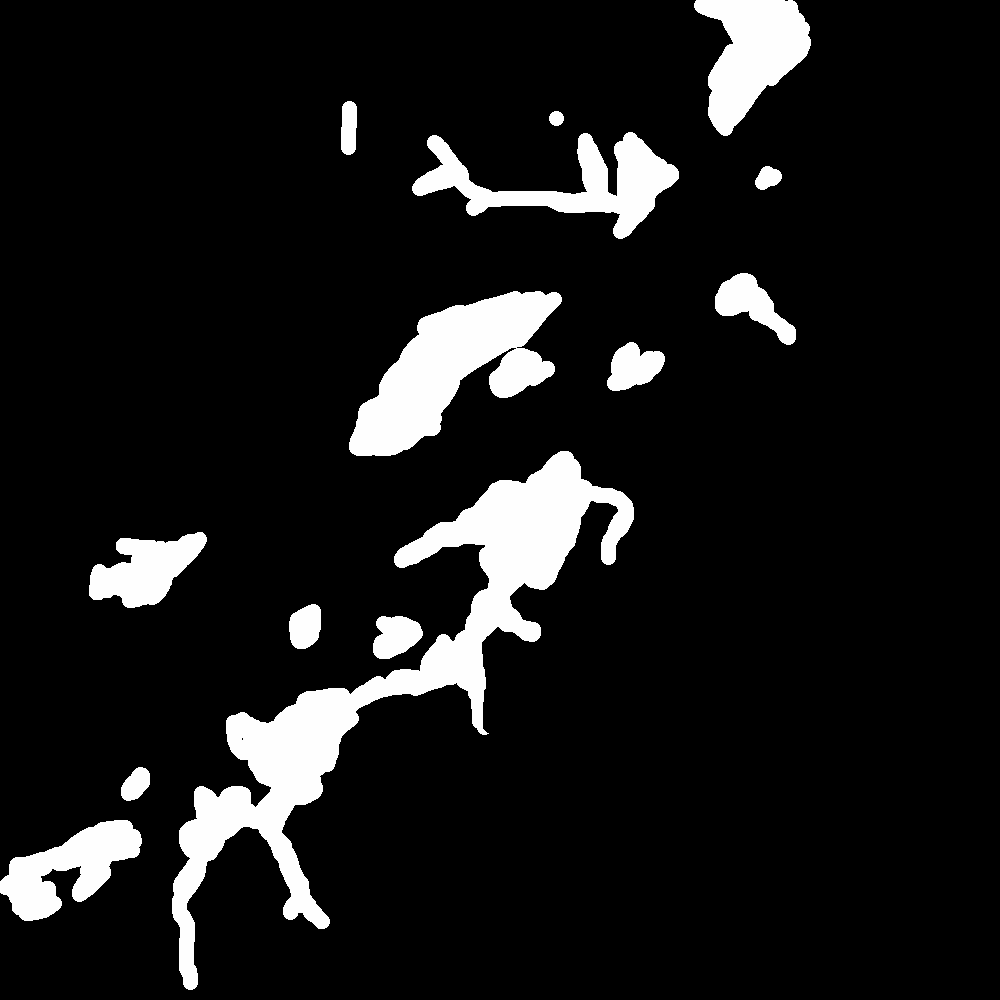illegal: (173, 455, 627, 994), (336, 109, 679, 228), (341, 285, 555, 464), (1, 758, 157, 923), (696, 1, 807, 125), (78, 530, 216, 608), (711, 269, 800, 348), (615, 342, 693, 386)
